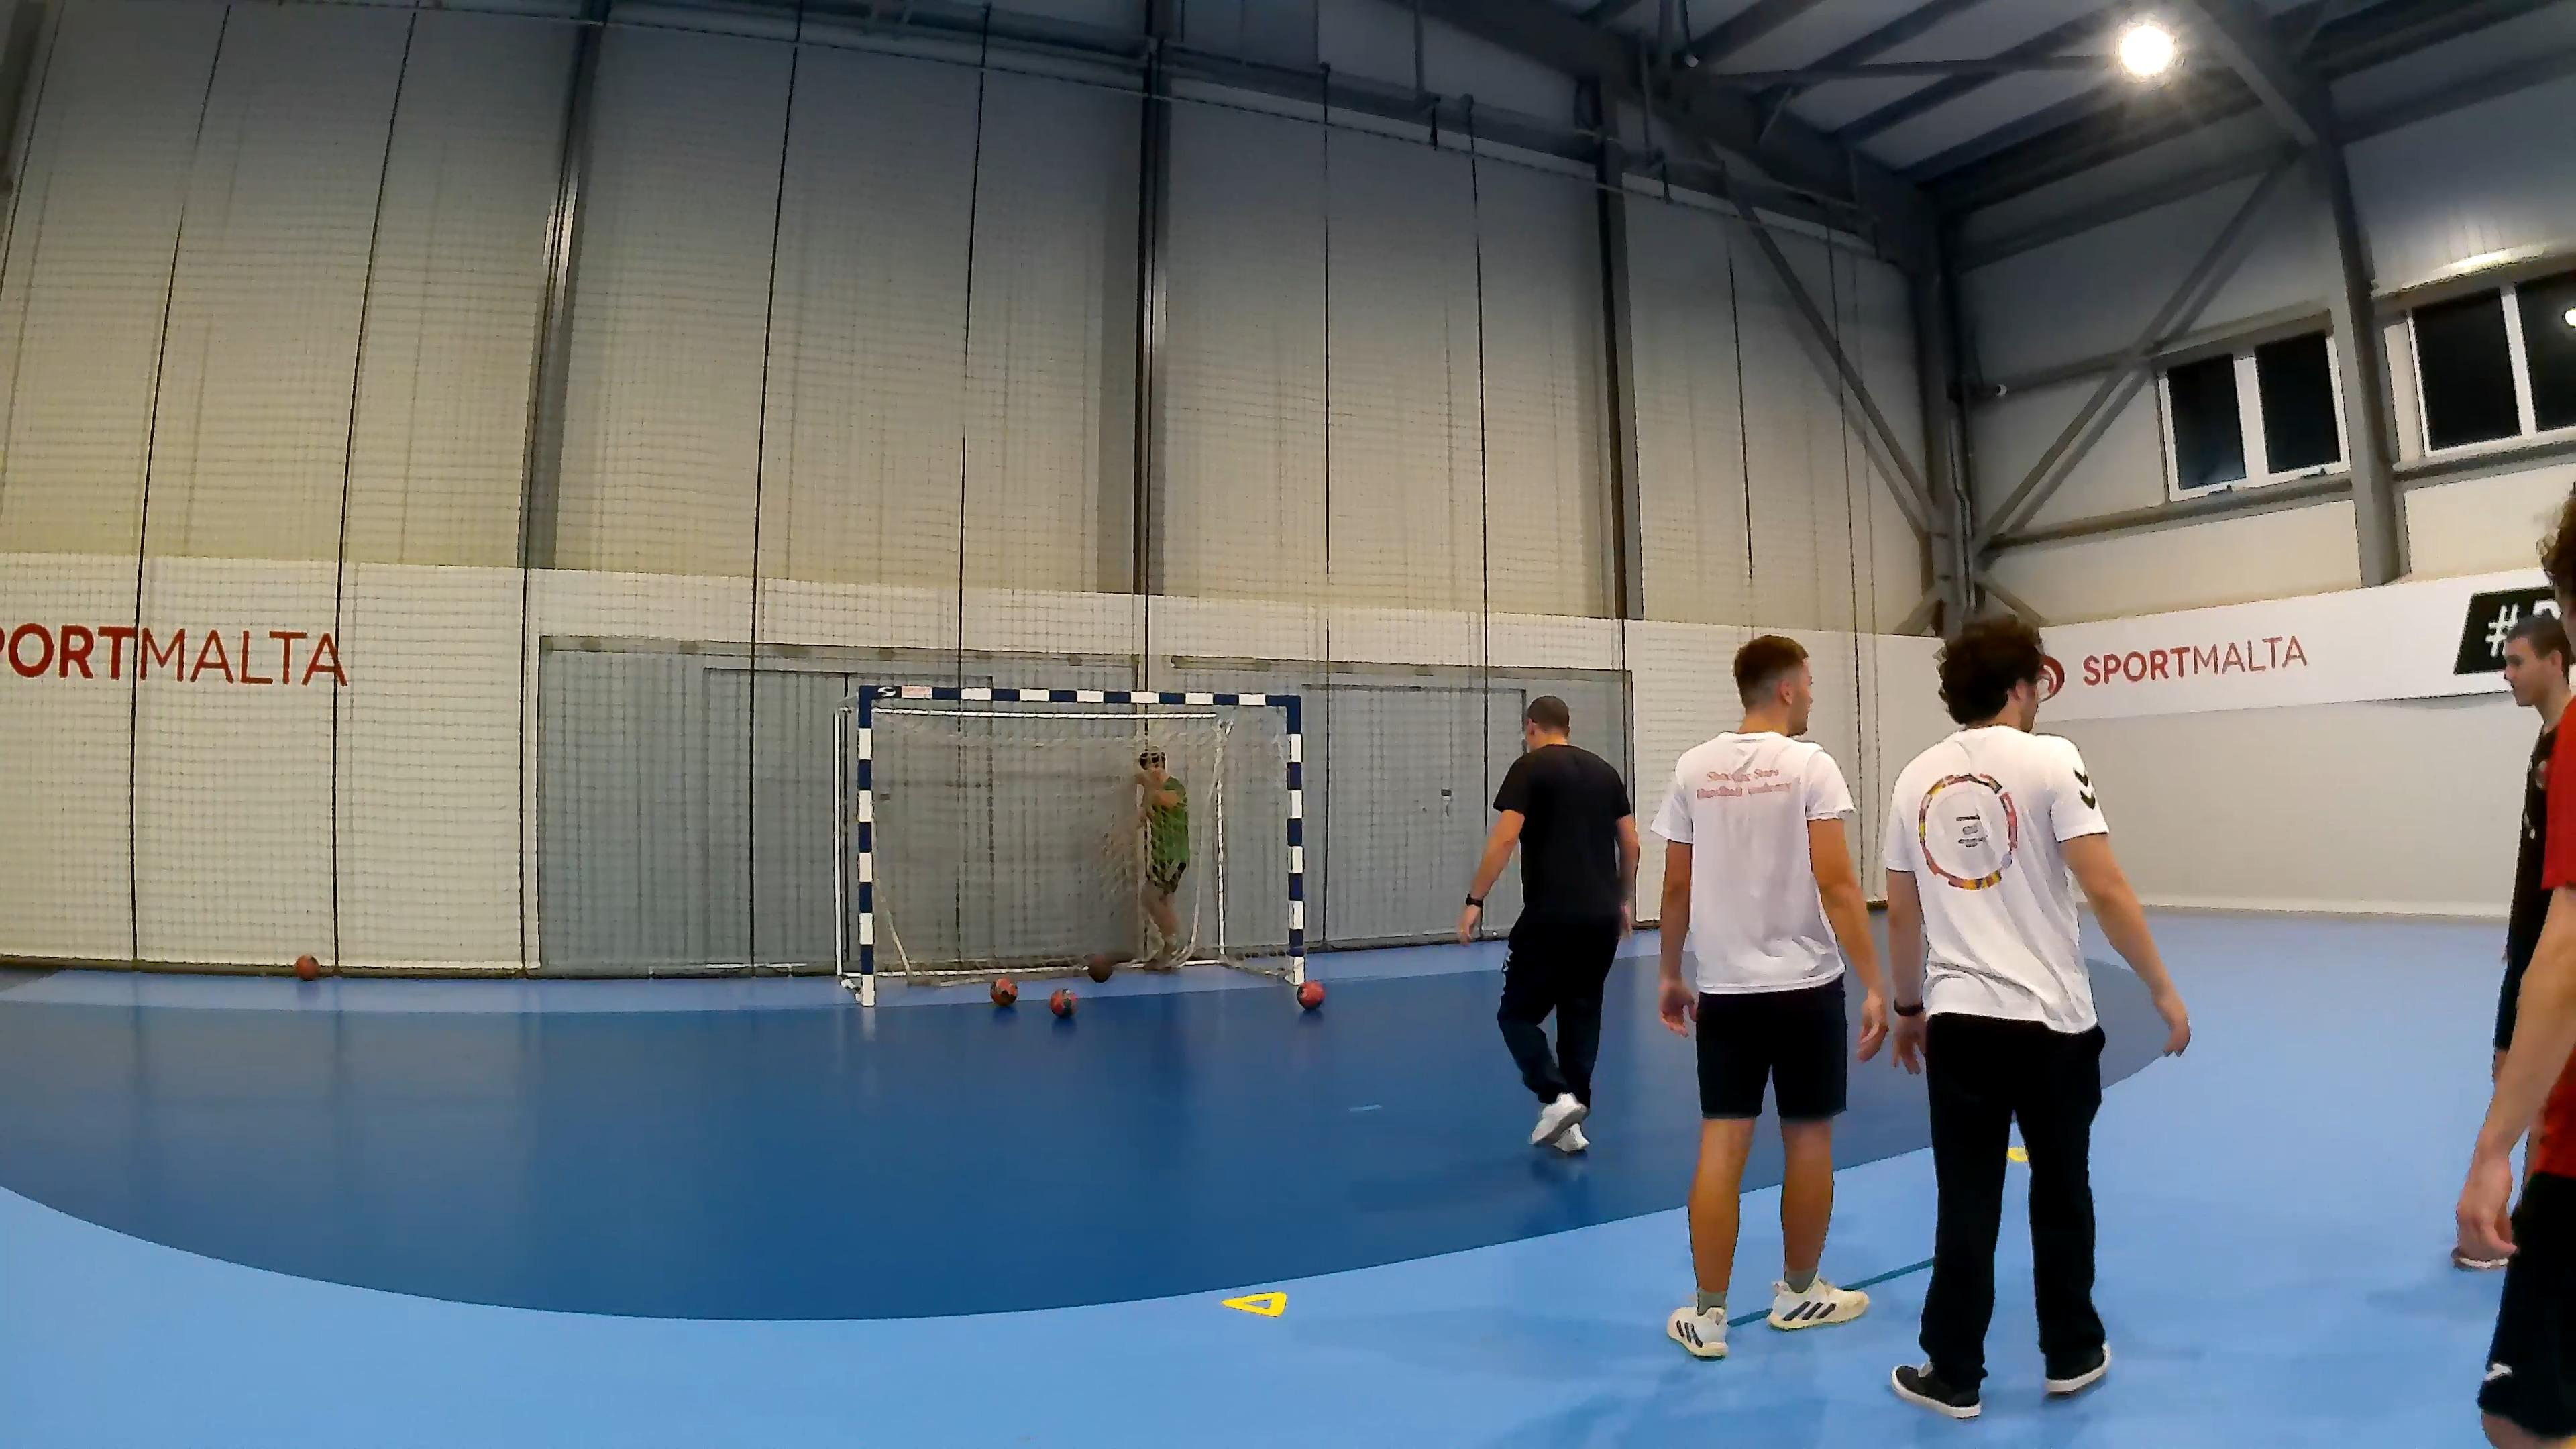handball: (1085, 952, 1113, 982), (1295, 980, 1323, 1008), (1047, 987, 1076, 1016), (989, 975, 1016, 1005)
